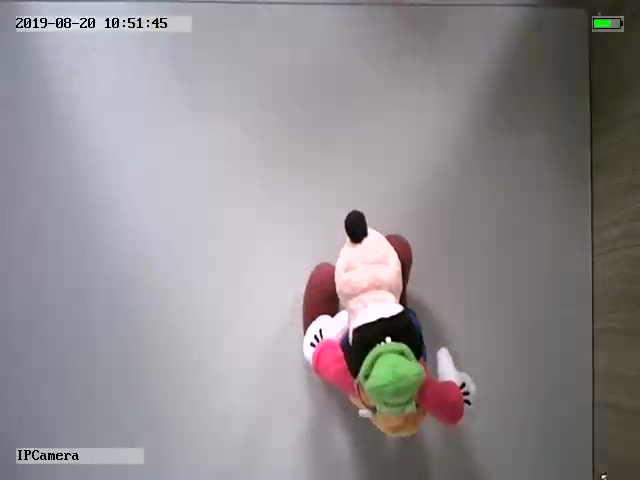goofy: (298, 210, 477, 436)
